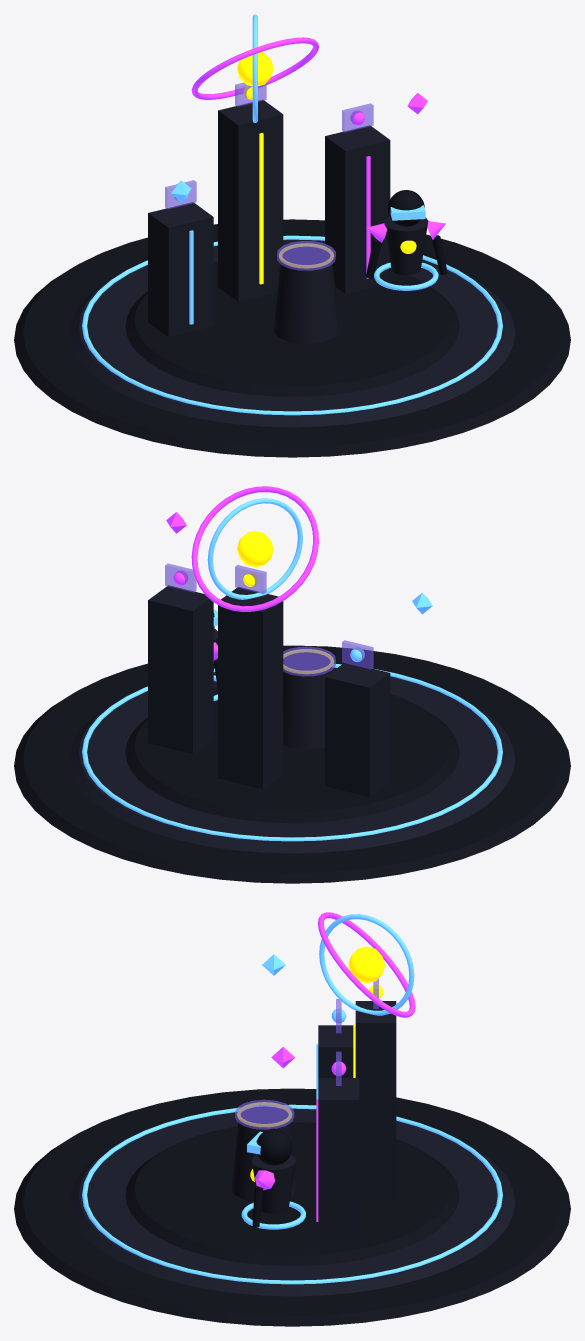
Rendered from experience-environment.glb.
3 renders of one model, top to bottom at view 1: azimuth 30°, elevation 25°; view 2: azimuth 150°, elevation 25°; view 3: azimuth 270°, elevation 25°, orthographic.
Parts seen in each view (by area): view 1: ExperienceEnvironment, MilestoneMonoliths, InteractivePodium, ChronoSentinel, GyroRing01, ProgressCore, GyroRing02; view 2: ExperienceEnvironment, MilestoneMonoliths, InteractivePodium, GyroRing01, GyroRing02, ProgressCore; view 3: ExperienceEnvironment, MilestoneMonoliths, ChronoSentinel, InteractivePodium, GyroRing01, GyroRing02, ProgressCore.
Part boxes in pixels (box(x1,y1,x2,y2)): ExperienceEnvironment: box(14, 219, 570, 457); MilestoneMonoliths: box(148, 82, 390, 337); InteractivePodium: box(273, 241, 338, 343); ChronoSentinel: box(366, 190, 447, 290); GyroRing01: box(191, 37, 318, 99); ProgressCore: box(237, 52, 273, 86); GyroRing02: box(252, 14, 257, 122); ExperienceEnvironment: box(14, 645, 570, 883); MilestoneMonoliths: box(148, 563, 390, 797); InteractivePodium: box(283, 646, 335, 749); GyroRing01: box(191, 486, 318, 611); GyroRing02: box(207, 498, 302, 599); ProgressCore: box(237, 531, 273, 567); ExperienceEnvironment: box(14, 1088, 570, 1326); MilestoneMonoliths: box(316, 978, 396, 1242); ChronoSentinel: box(241, 1128, 305, 1229); InteractivePodium: box(231, 1099, 297, 1201); GyroRing01: box(318, 912, 415, 1017); GyroRing02: box(319, 914, 414, 1015); ProgressCore: box(348, 946, 385, 983).
Size of the model in its own units: 3 by 1.74 by 3.
